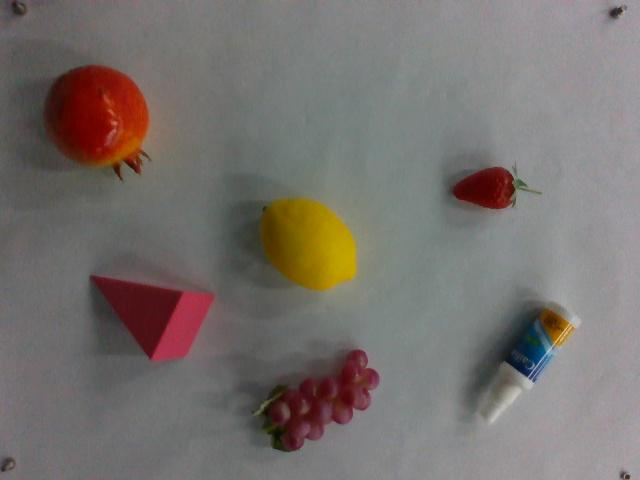detergent: (475, 297, 587, 425)
grape: (256, 344, 386, 452)
lemon: (259, 197, 361, 291)
pomegranate: (44, 65, 153, 174)
pyramid: (88, 269, 213, 364)
strawberry: (450, 166, 533, 209)
